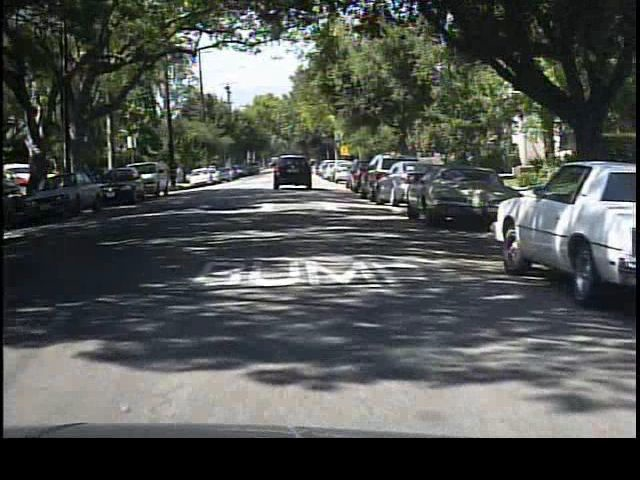person: (176, 164, 189, 191)
